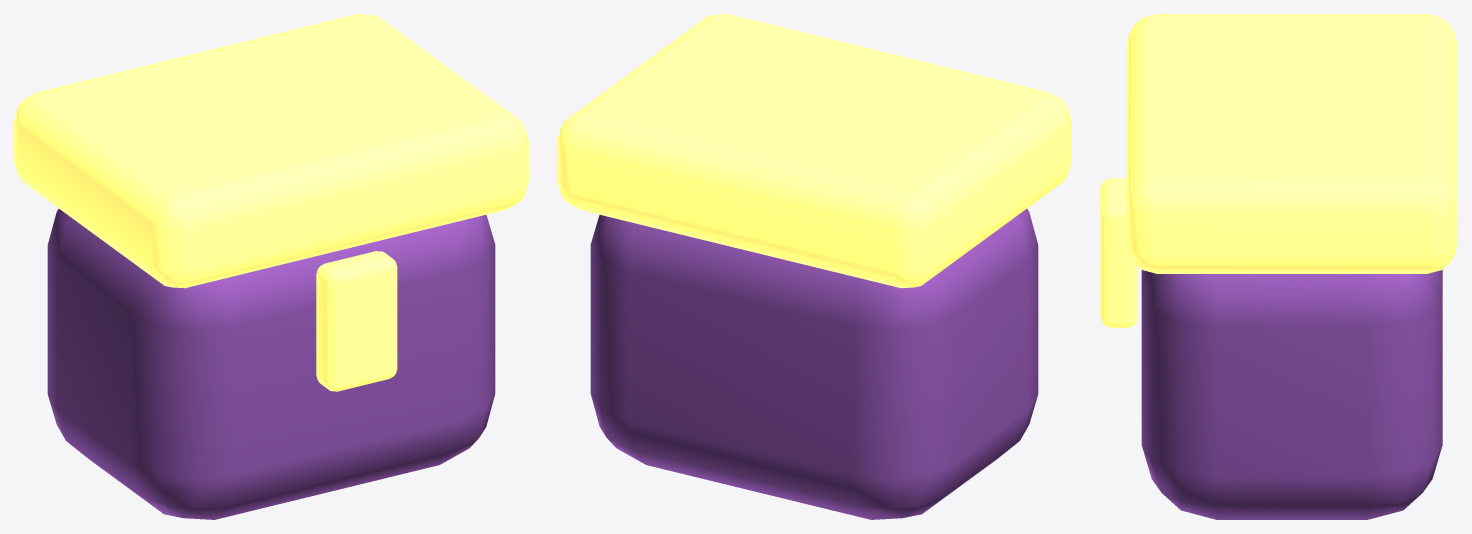
The model's file is chest.glb.
3 views of the same model, side by side, from view 1: azimuth 30°, elevation 25°; view 2: azimuth 150°, elevation 25°; view 3: azimuth 270°, elevation 25° (orthographic).
Visible parts, largest first — view 1: Treasure lid, Treasure, Latch; view 2: Treasure, Treasure lid; view 3: Treasure lid, Treasure, Latch.
Boxes of the visible parts, box(x1,y1,x2,y2) form: Treasure lid: box(14, 14, 528, 288); Treasure: box(47, 209, 495, 519); Latch: box(316, 251, 397, 391); Treasure: box(590, 209, 1038, 519); Treasure lid: box(557, 14, 1071, 288); Treasure lid: box(1126, 14, 1457, 273); Treasure: box(1141, 270, 1442, 519); Latch: box(1100, 178, 1137, 327).
Size of the model in its own units: 0.58 by 0.53 by 0.475.
